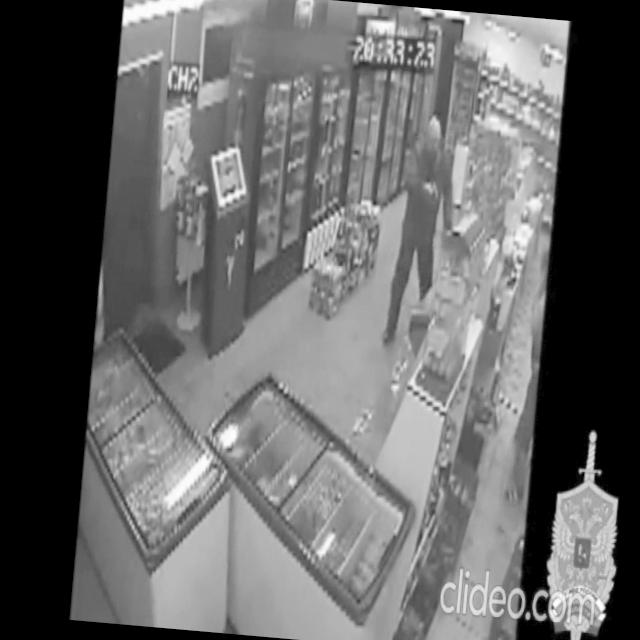gun: (428, 176, 441, 204)
person with a gun: (379, 112, 463, 353)
